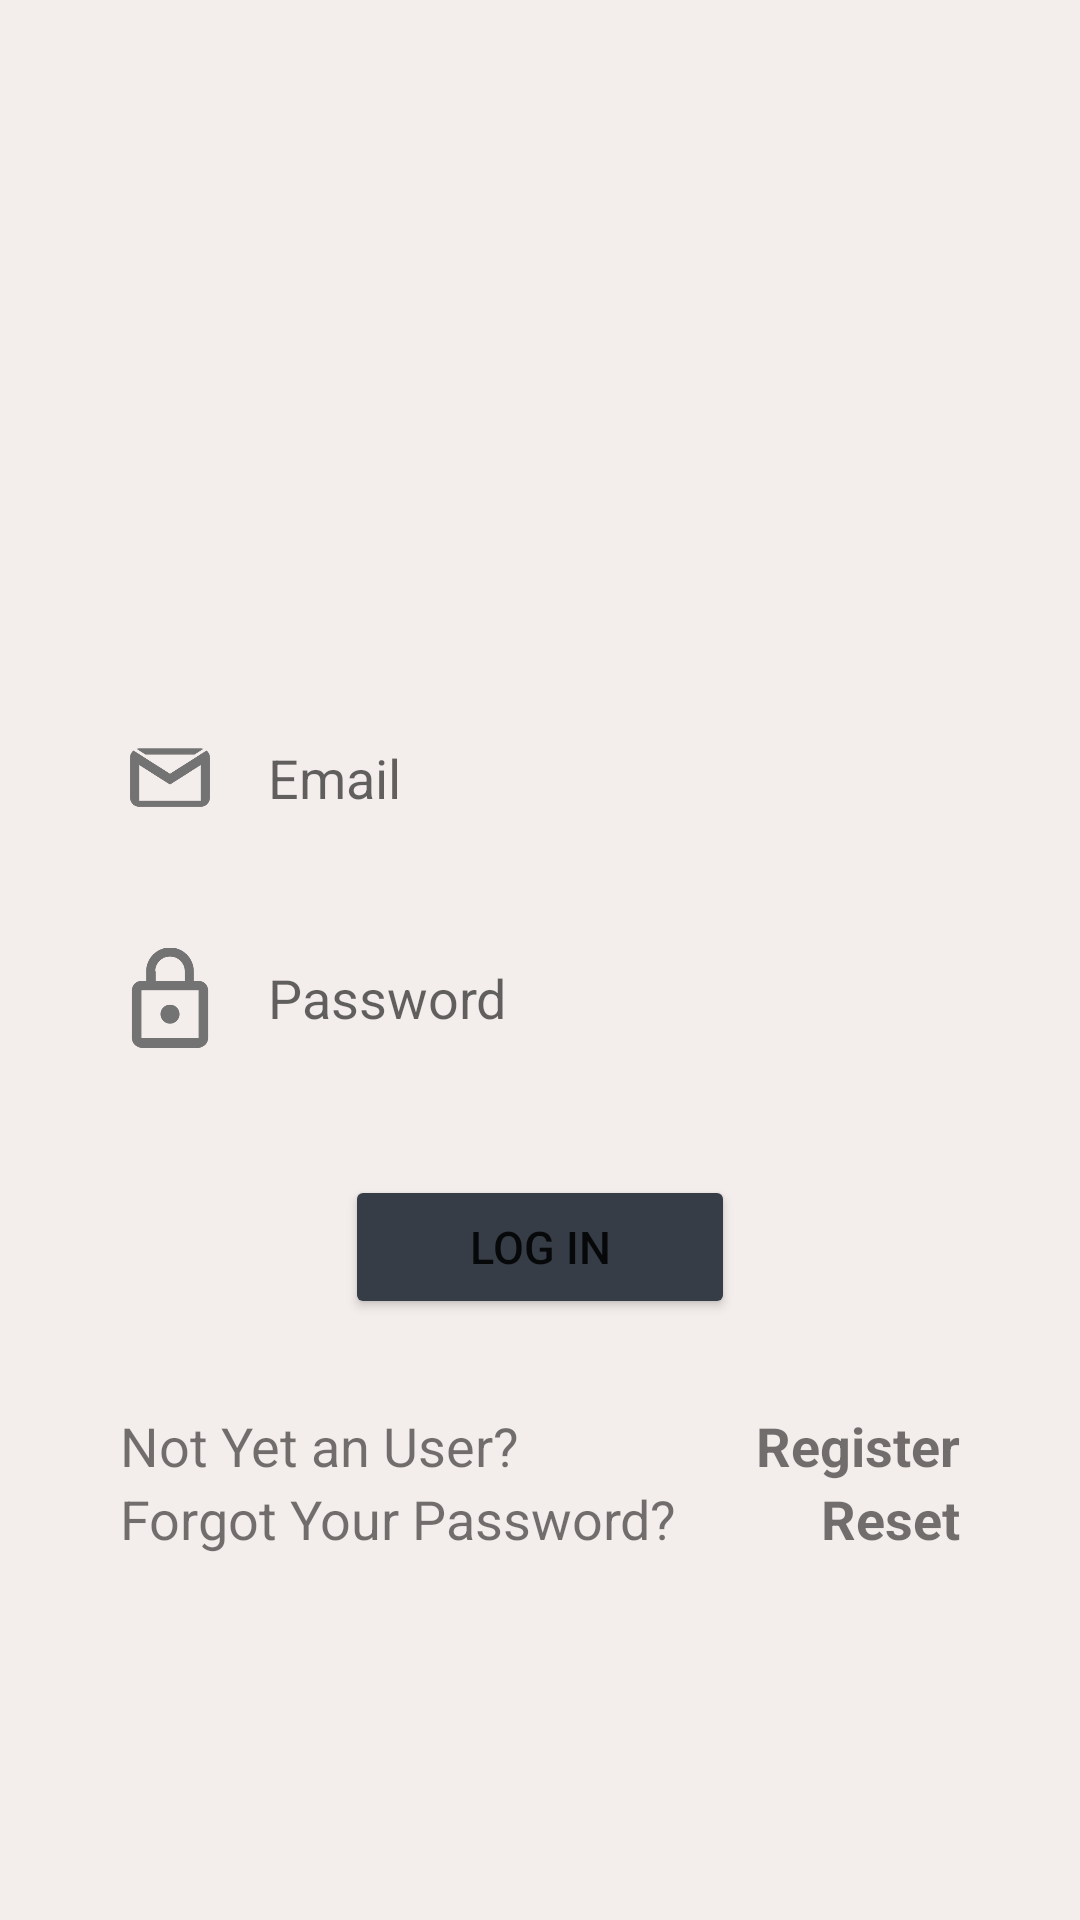

Screen size 1080*1920. Icon name, then its box in pixels as BBox(x1, y1, x2, y2):
lock: BBox(132, 948, 208, 1048)
